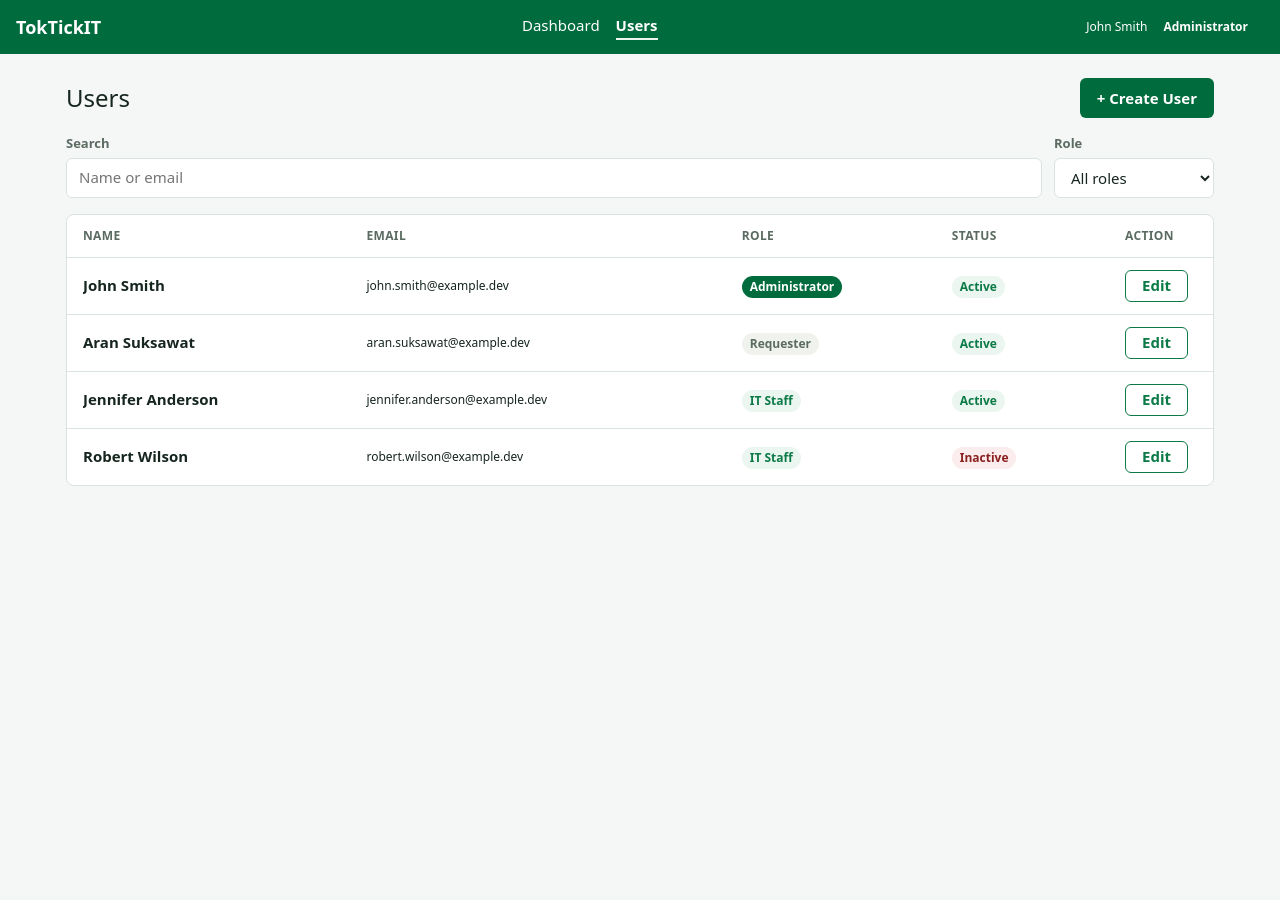
Test: Administrator User Management screen › creates a user: sends the form, closes the panel, refreshes the list and confirms
Click the button "+ Create User": (1147, 98) [1080, 78, 1214, 118]
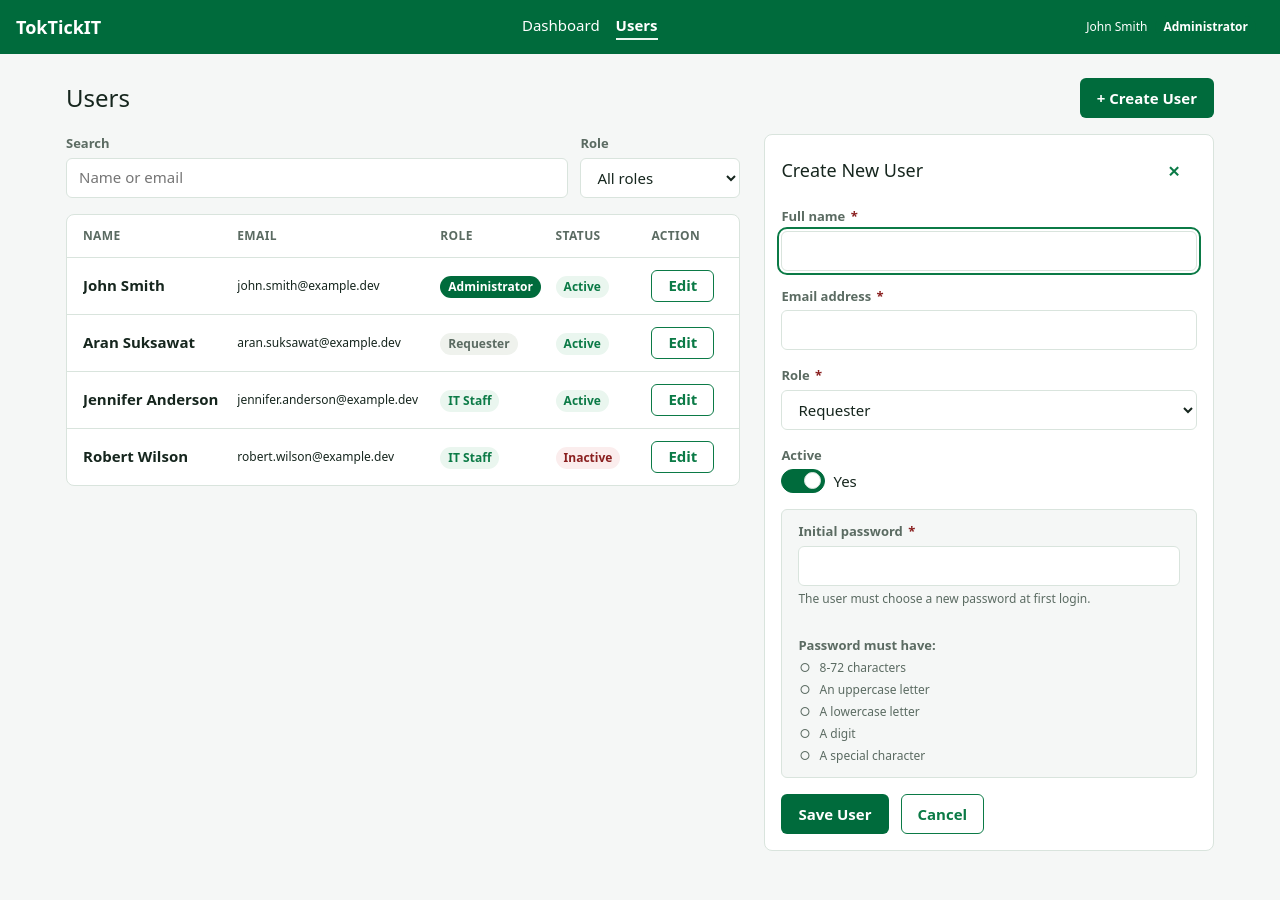
In the field labelled "Full name *": (989, 250) [781, 230, 1197, 270], type "  Alex Thompson "
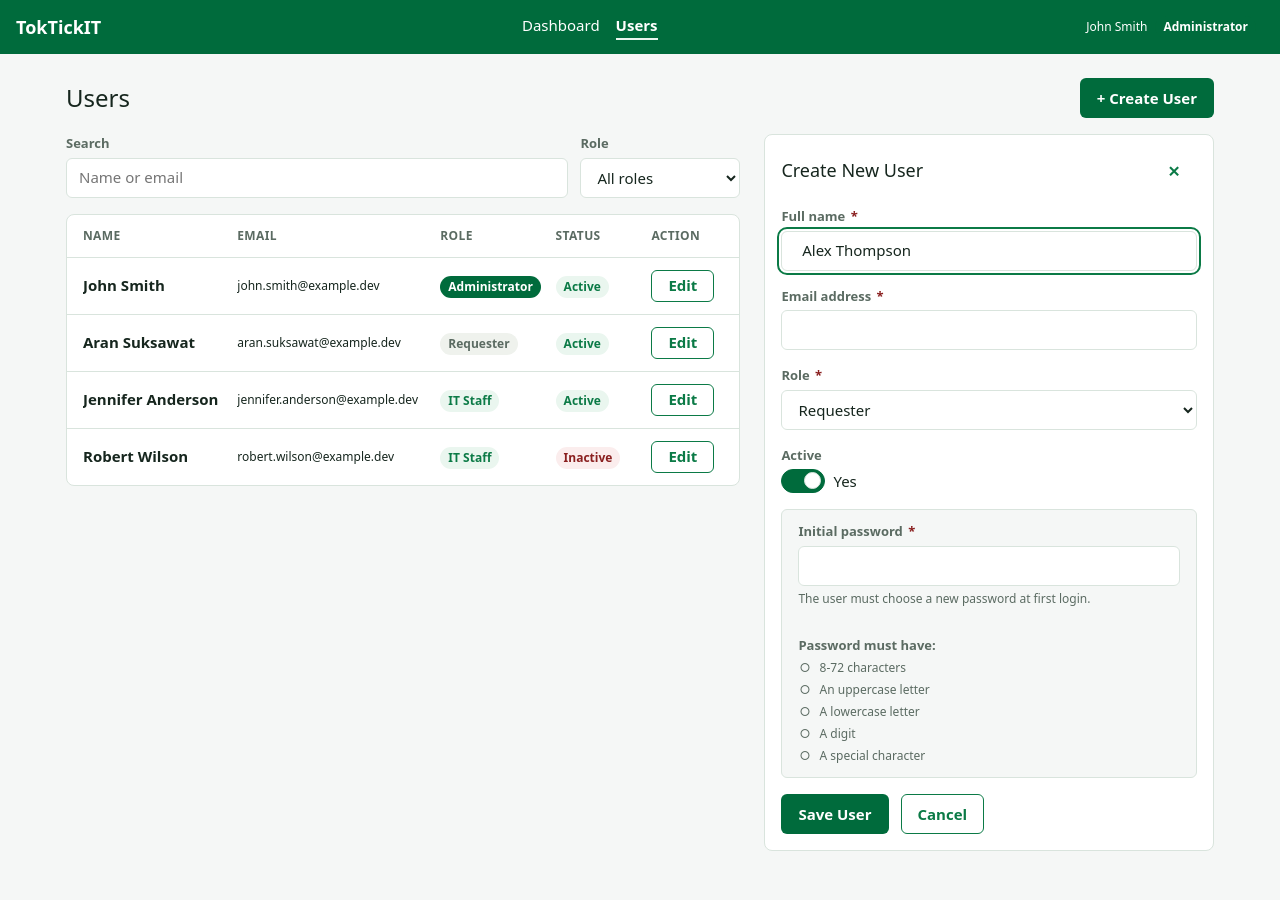
In the field labelled "Email address *": (989, 330) [781, 310, 1197, 350], type "alex.thompson@example.dev"
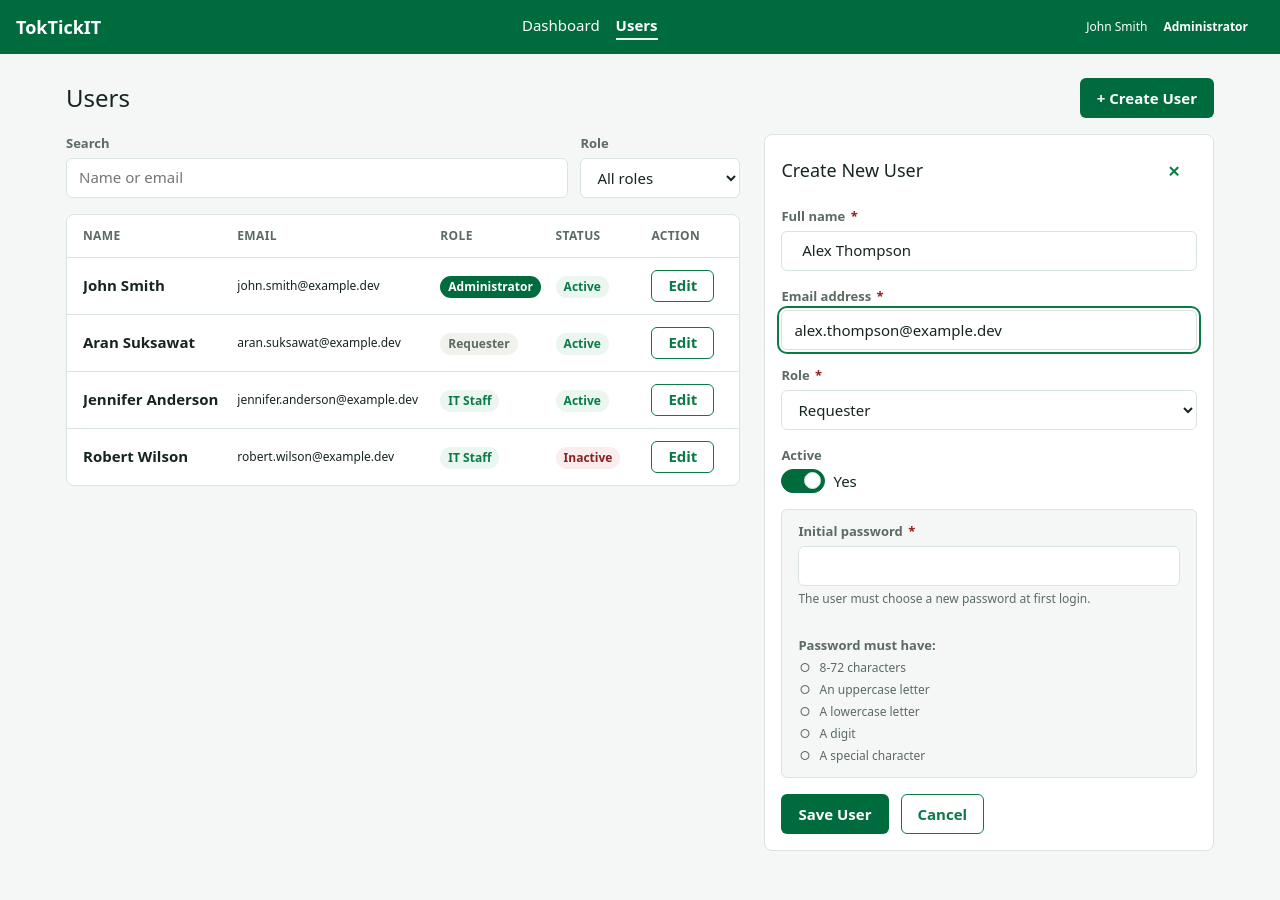
Select "IT Staff" in the dropdown labelled "Role *": (989, 410) [781, 390, 1197, 430]
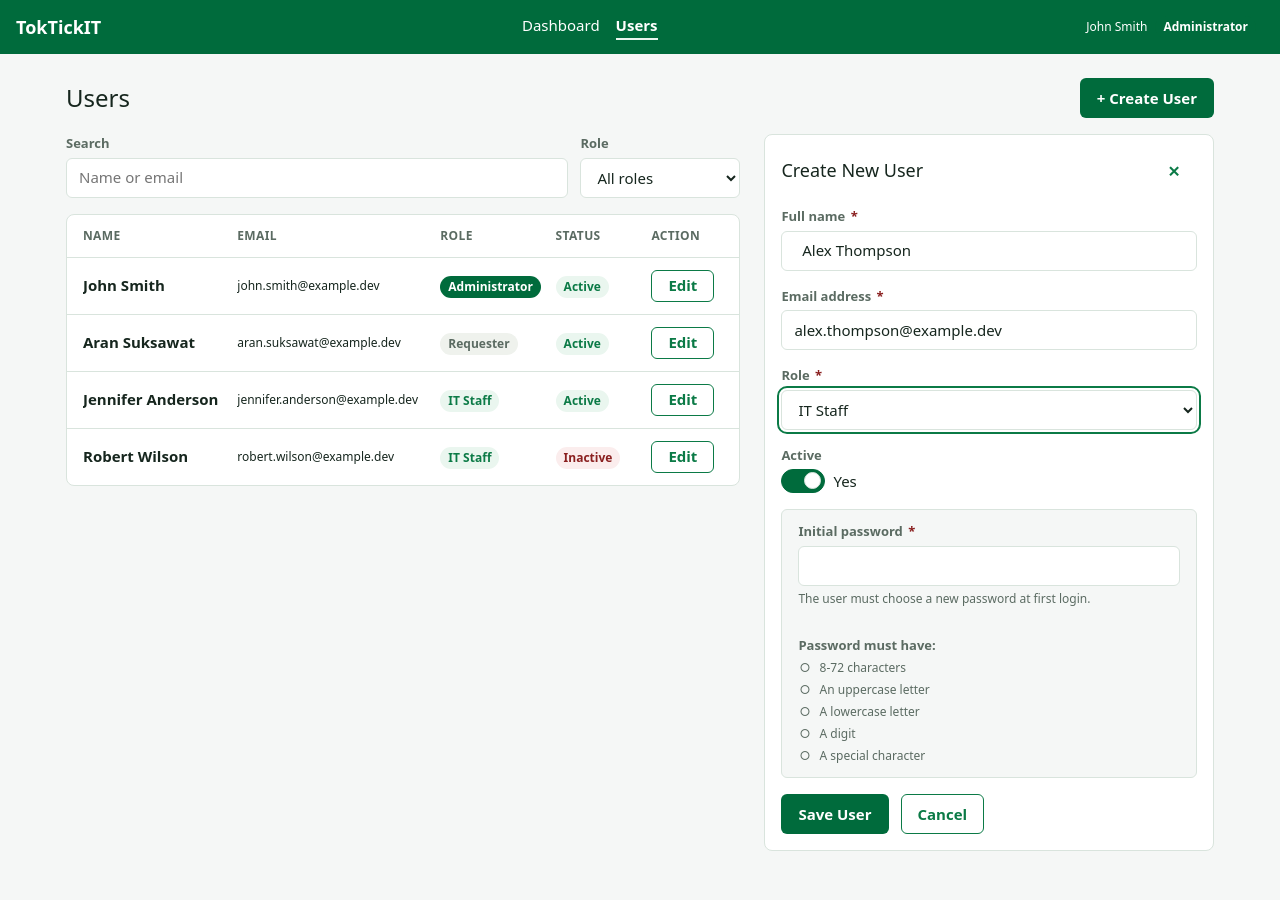
In the password field labelled "Initial password *": (989, 566) [798, 546, 1180, 586], type "Temp#Passw0rd1"
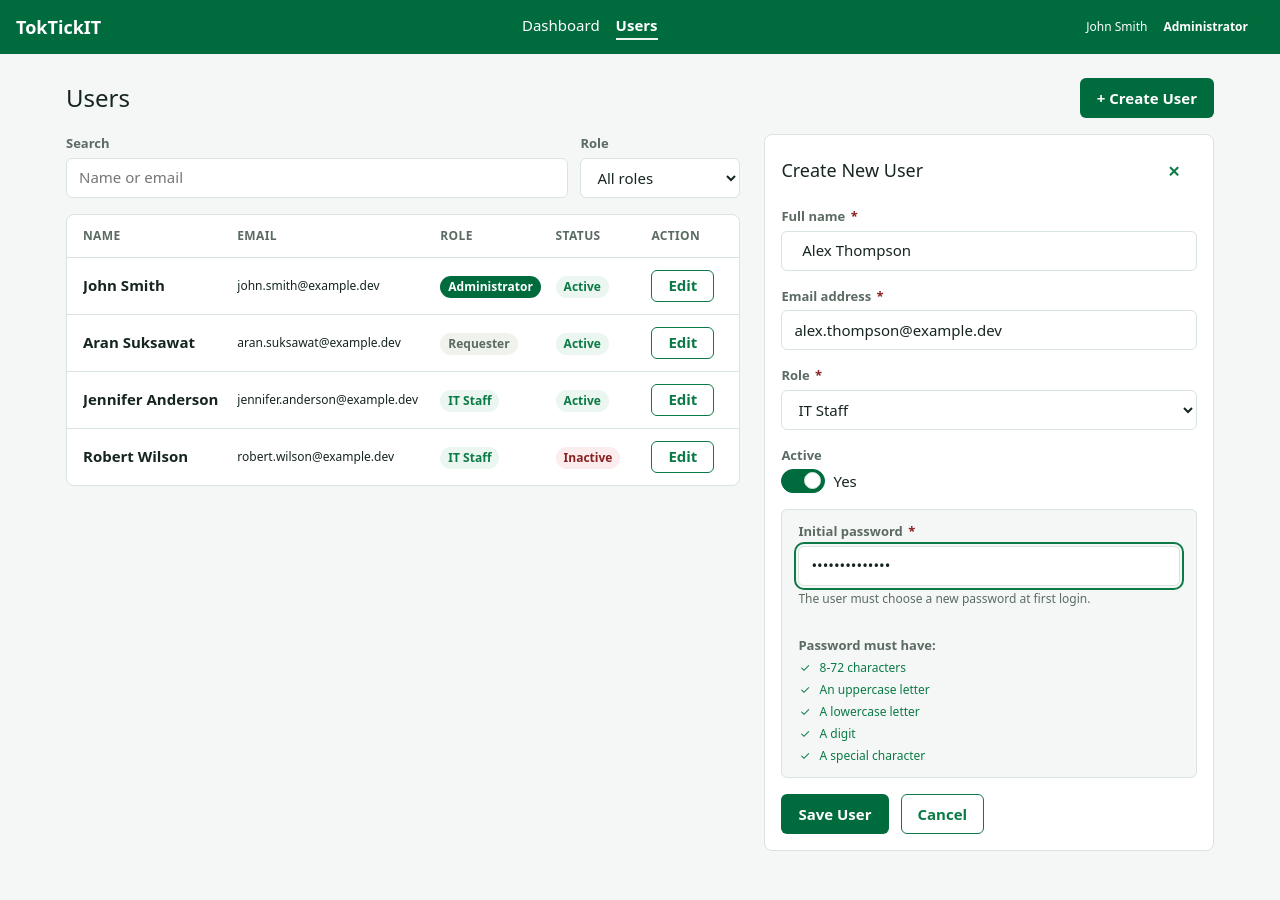
Click the button "Save User": (835, 814) [781, 794, 888, 834]
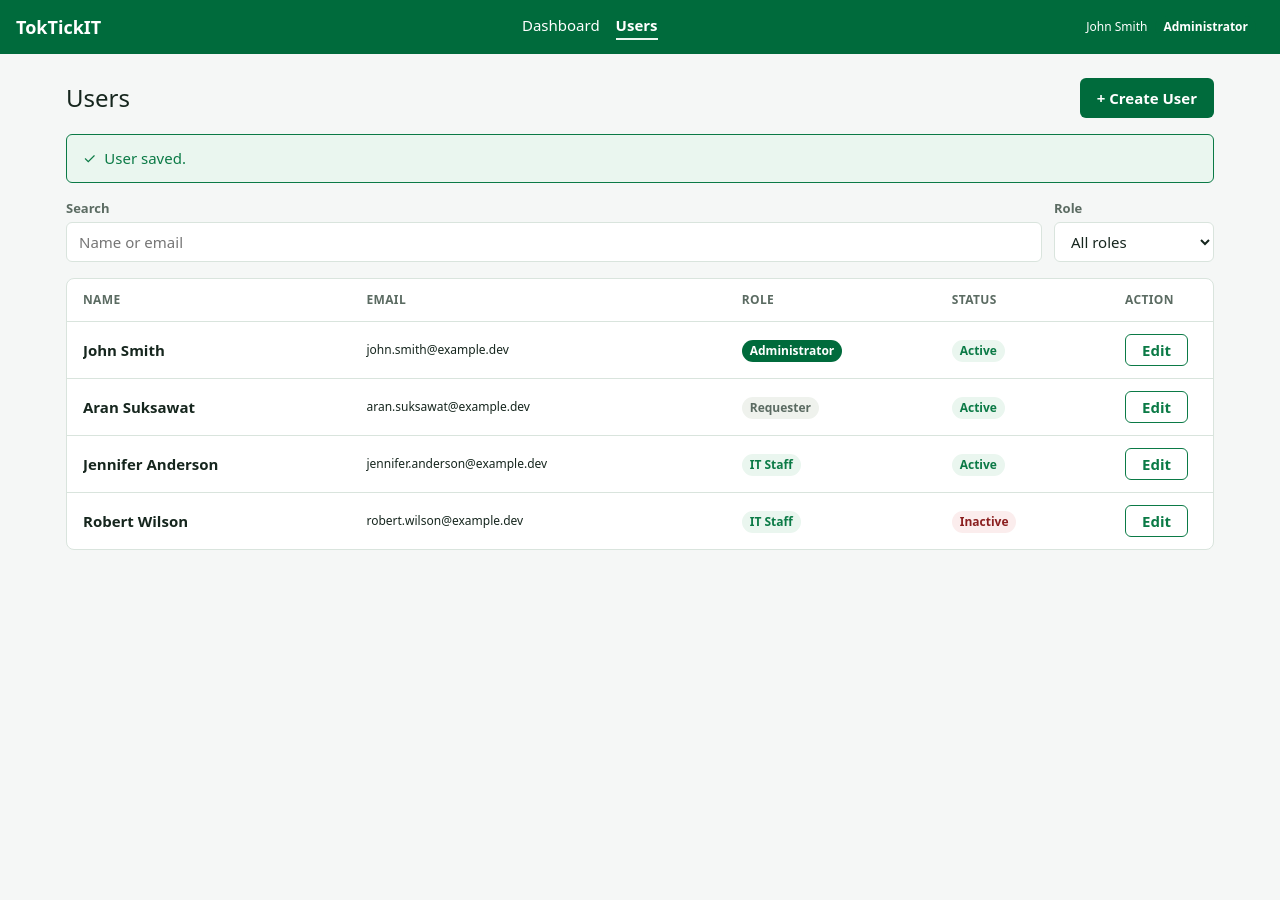
Expected: the text "User saved." is shown, [104, 147, 186, 170]
Expected: the heading "Create New User" is gone
